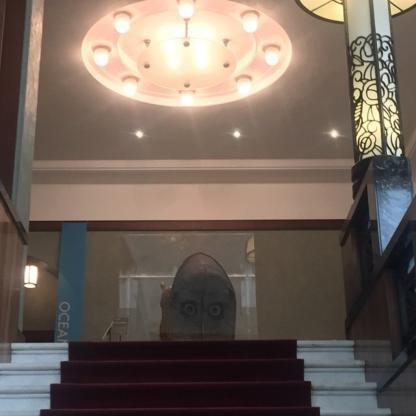stair: (0, 329, 394, 416)
